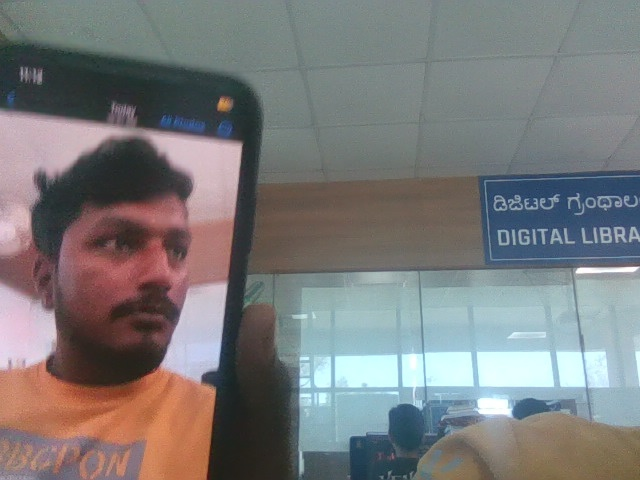fake: (40, 120, 217, 371)
